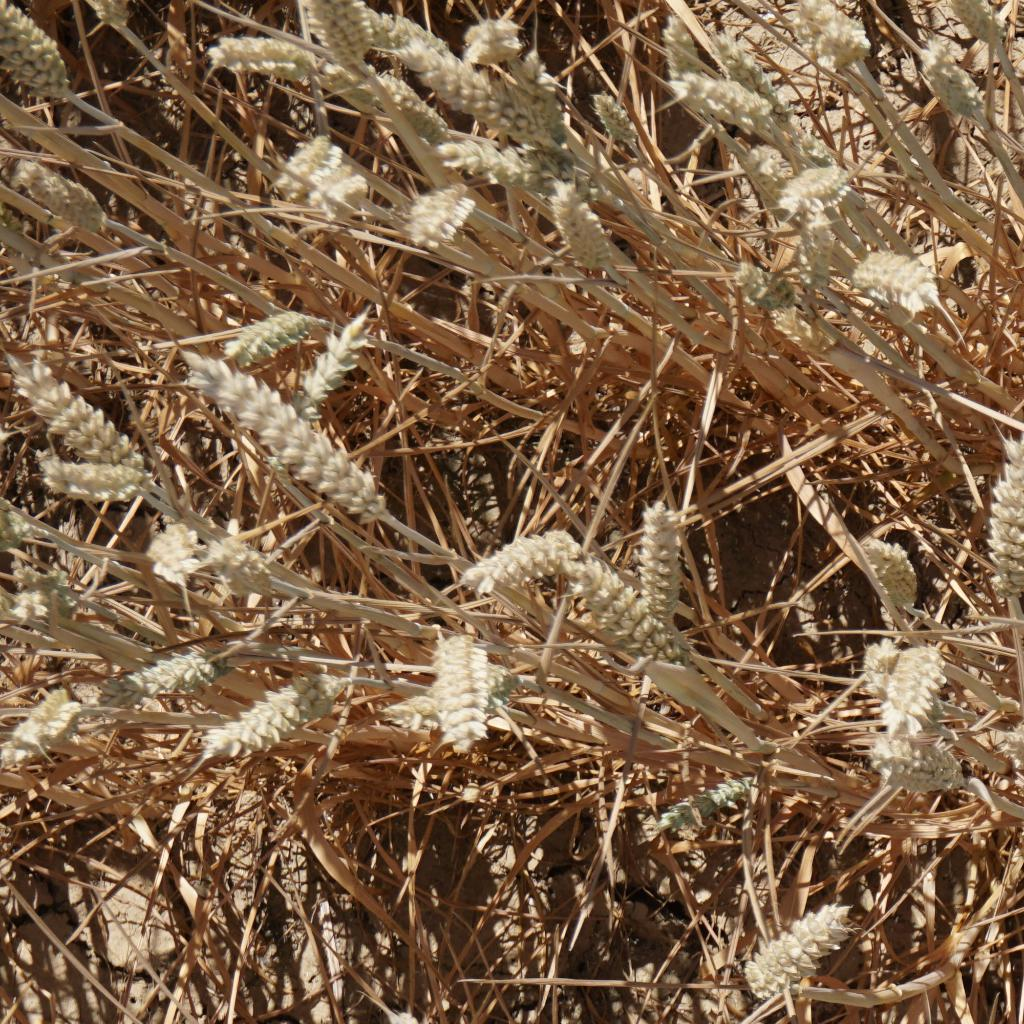0-0: (176, 352, 379, 517), (3, 365, 135, 459), (196, 679, 341, 762), (577, 561, 684, 667), (720, 890, 839, 984), (0, 668, 95, 772), (0, 10, 88, 112), (395, 23, 496, 108), (208, 25, 336, 92), (24, 444, 146, 513), (422, 638, 496, 751), (462, 521, 583, 590), (105, 634, 226, 702), (673, 72, 787, 141), (866, 732, 972, 803), (380, 667, 519, 719), (632, 504, 692, 621), (269, 137, 360, 214), (984, 426, 1024, 597), (0, 153, 108, 214), (303, 316, 372, 409), (764, 153, 857, 220), (545, 190, 618, 269), (354, 67, 442, 132), (854, 524, 921, 608), (861, 247, 941, 316), (659, 773, 766, 824), (14, 560, 89, 631), (923, 47, 992, 124), (206, 536, 283, 604), (891, 648, 950, 736), (214, 305, 295, 369), (458, 9, 535, 74), (795, 0, 873, 64), (435, 137, 527, 188), (735, 243, 800, 312), (137, 513, 199, 585), (295, 0, 379, 51), (590, 92, 653, 157), (518, 141, 594, 185), (411, 193, 476, 244), (854, 630, 907, 692), (799, 219, 836, 298), (934, 0, 994, 41), (733, 137, 783, 182), (996, 719, 1024, 782)
